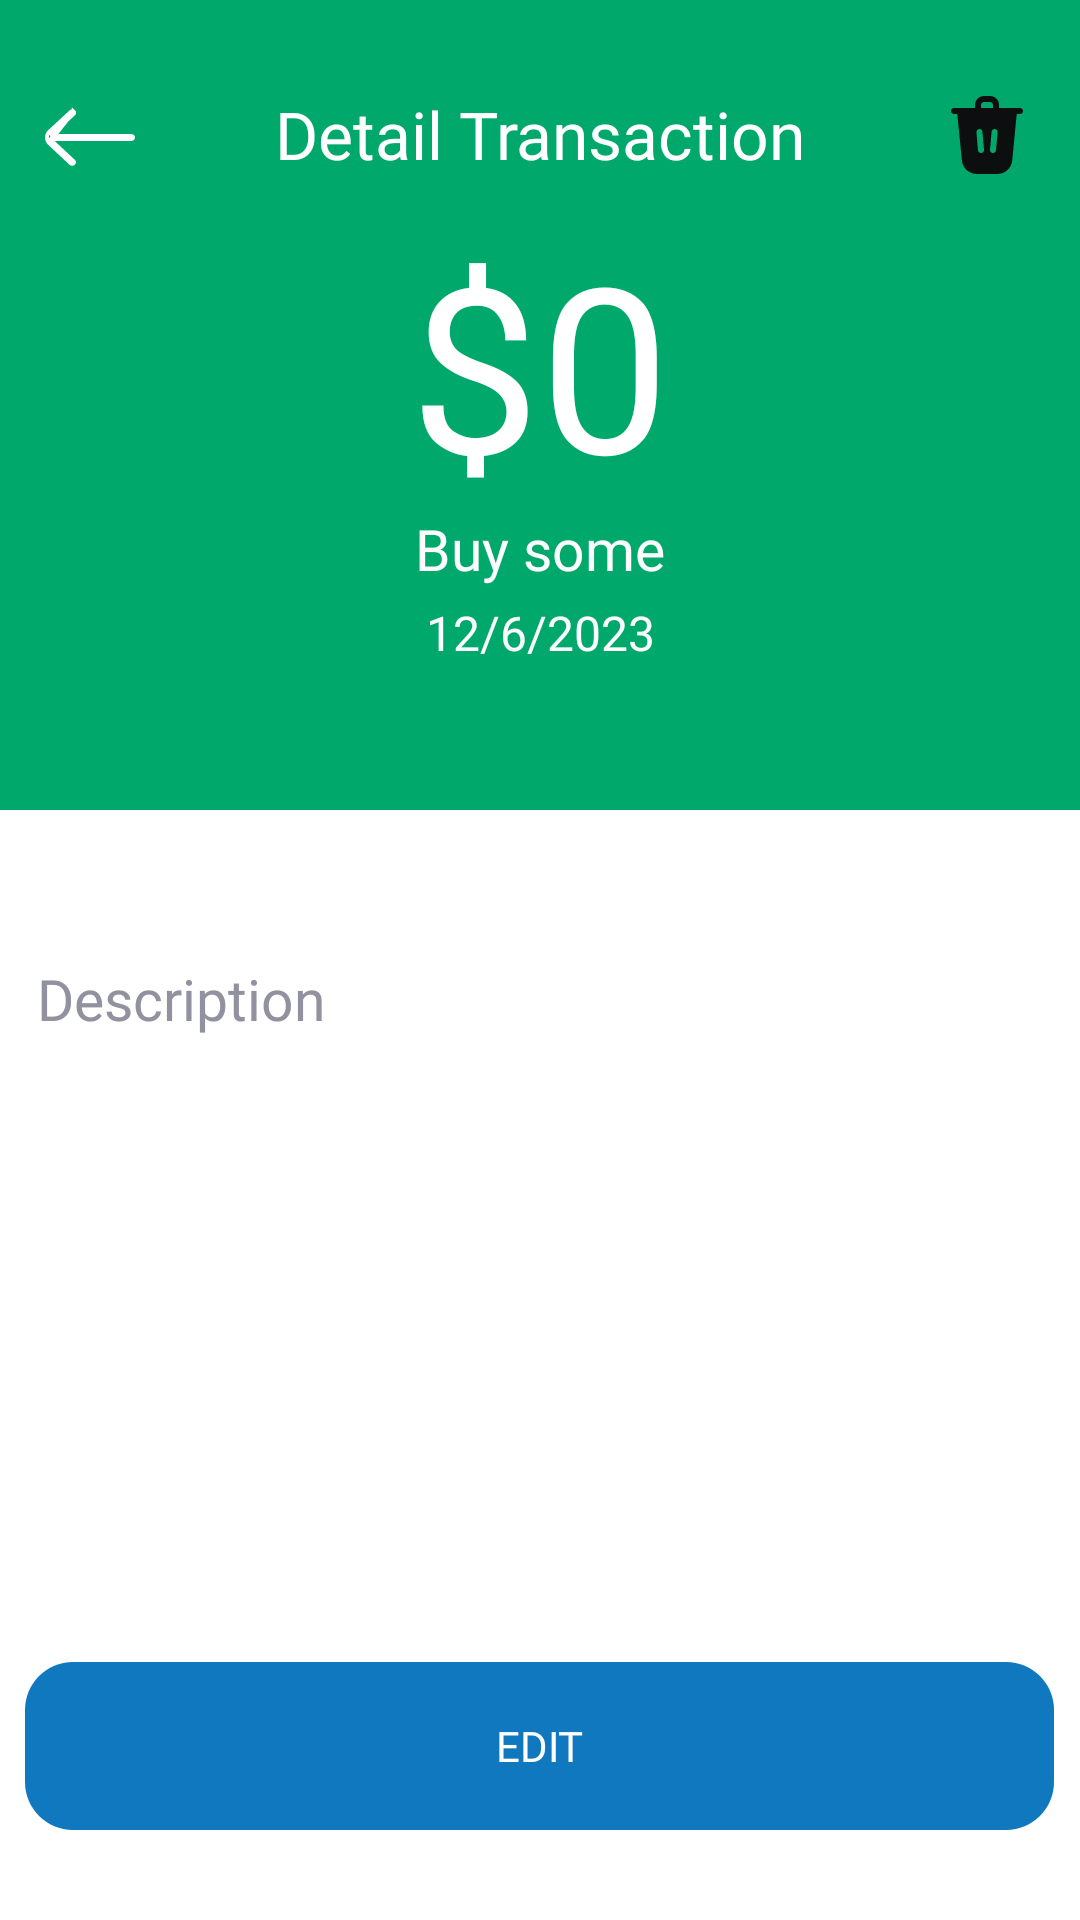

Icon bounding boxes for this 1080 x 1920 phone screenshot, format BBox(x1, y1, x2, y2):
arrow top back: BBox(45, 107, 135, 166)
trash: BBox(951, 96, 1023, 174)
